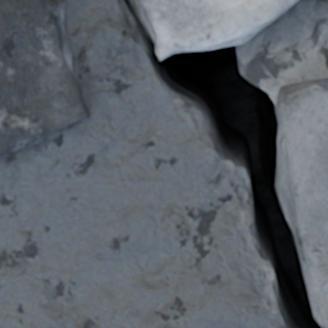brick: (0, 0, 88, 155), (136, 0, 298, 58)
broken_brick: (275, 76, 327, 327)
crack: (2, 0, 326, 327)
